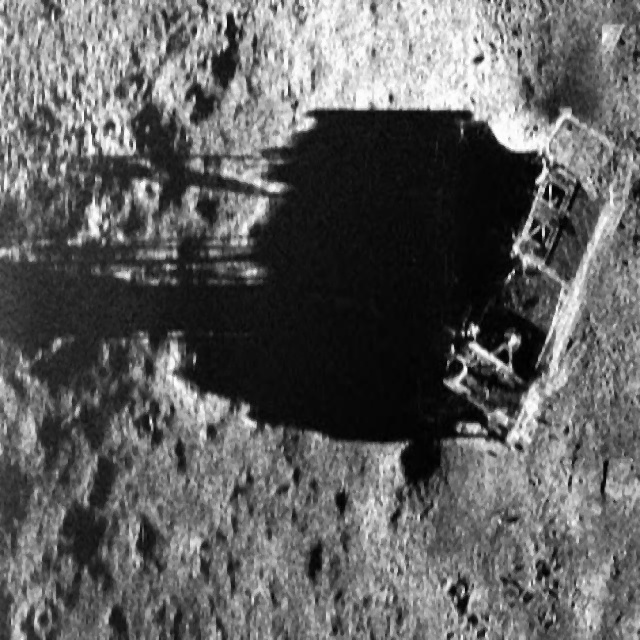Ship: (435, 95, 637, 455)
